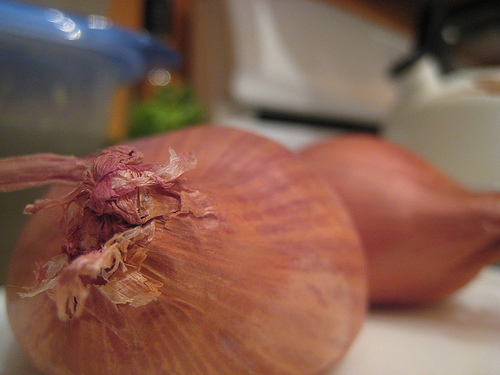onion: (0, 126, 370, 374), (298, 132, 499, 311)
